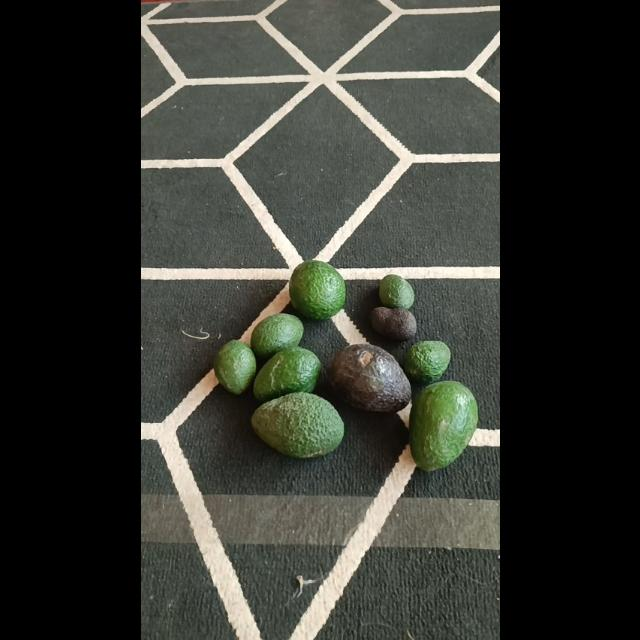Primera: (407, 379, 477, 468), (252, 391, 344, 457), (328, 342, 412, 412), (288, 260, 344, 318)
Segunda: (253, 346, 321, 402), (248, 312, 304, 361)
Tercera: (212, 339, 255, 395), (402, 340, 450, 384), (370, 306, 416, 340), (378, 274, 414, 308)
